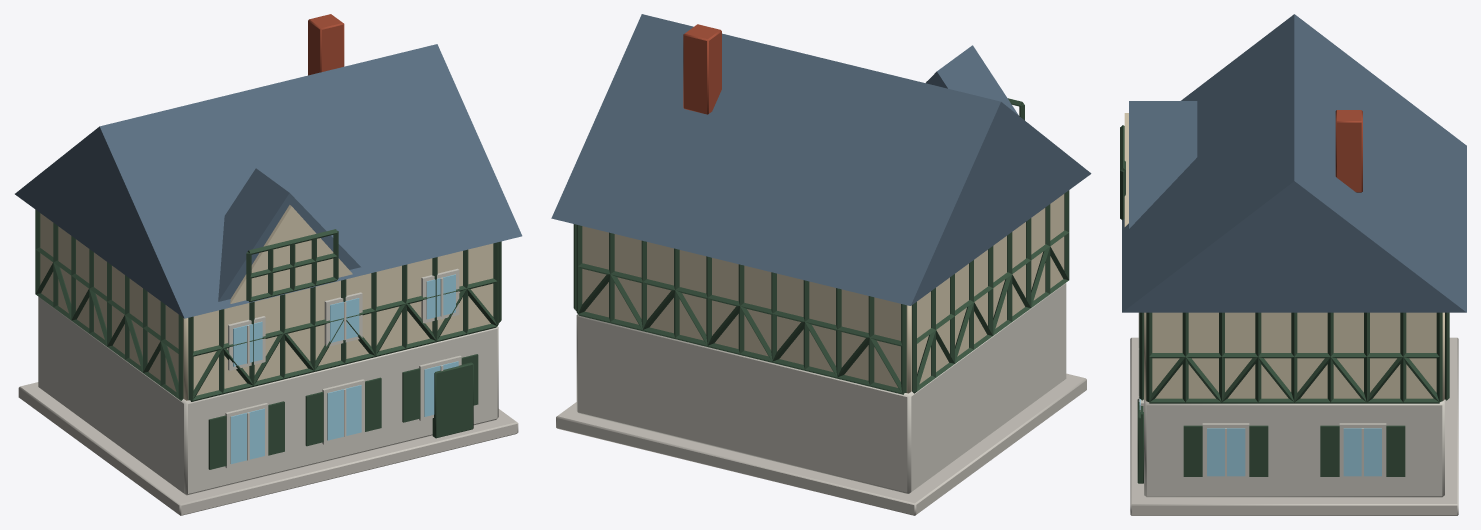
File: 131_villa_anglo_normande_a.fbx
The picture shows the model from 3 angles, left to right: view 1: azimuth 30°, elevation 25°; view 2: azimuth 150°, elevation 25°; view 3: azimuth 270°, elevation 25°; orthographic projection. The views are drawn at different scales.
Parts seen in each view (by area): view 1: Murs, Toit, Colombages, Vitres; view 2: Toit, Murs, Colombages; view 3: Toit, Murs, Colombages, Vitres.
Part boxes in pixels (left/top/right/bottom): Murs: left=18, top=14, right=518, bottom=515; Toit: left=15, top=44, right=522, bottom=318; Colombages: left=35, top=209, right=501, bottom=401; Vitres: left=230, top=274, right=458, bottom=464; Toit: left=551, top=14, right=1091, bottom=305; Murs: left=556, top=24, right=1086, bottom=515; Colombages: left=573, top=81, right=1069, bottom=394; Toit: left=1122, top=14, right=1466, bottom=312; Murs: left=1124, top=110, right=1458, bottom=515; Colombages: left=1120, top=125, right=1449, bottom=403; Vitres: left=1139, top=399, right=1381, bottom=476.
Size of the model in its own units: 4.48 by 4.48 by 3.92.
1 material, 1 textured.
